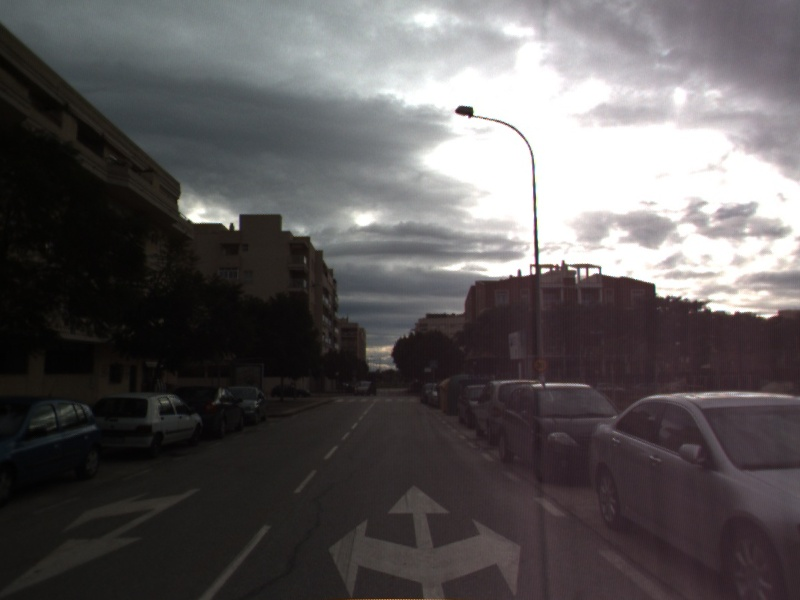STRAIGHT_LEFT_RIGHT: (326, 480, 525, 600)
